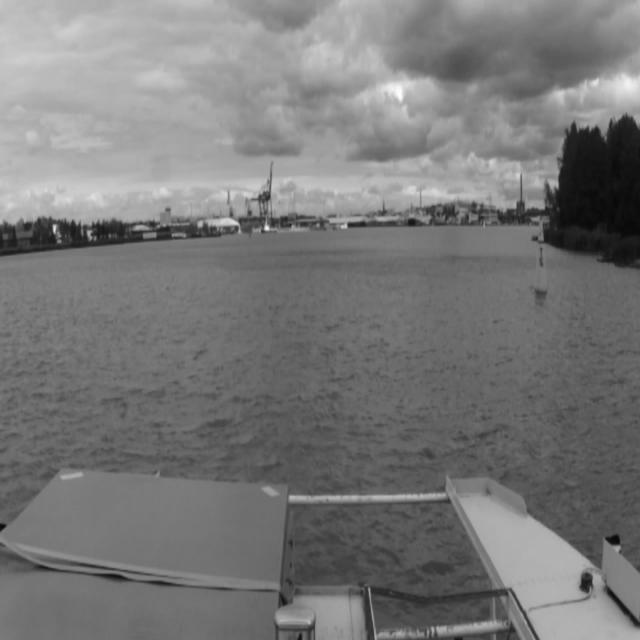buoy: (530, 206, 554, 308), (482, 218, 486, 231)
ship: (407, 198, 417, 230)
